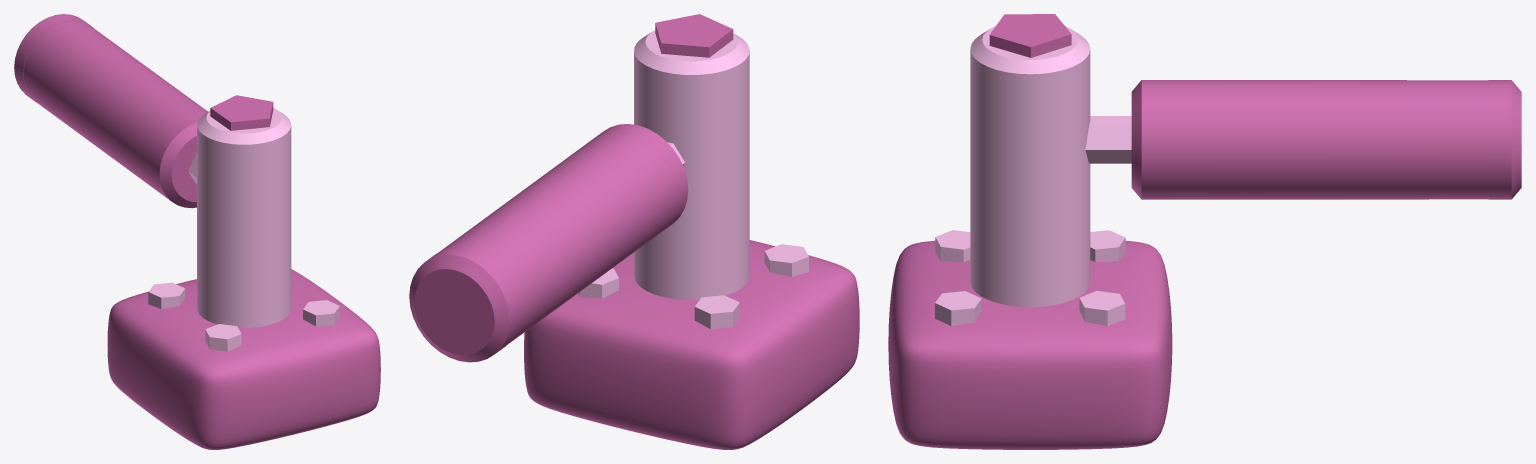
Rendered from SpinBaton.fbx.
3 renders of one model, left to right at view 1: azimuth 30°, elevation 25°; view 2: azimuth 150°, elevation 25°; view 3: azimuth 270°, elevation 25°, orthographic. The views are drawn at different scales.
Parts seen in each view (by area): view 1: Spinner, Poll, Baton, BatonStartCap, TopCap, BatonEndCap, Nut2, Nut1, Nut3; view 2: Spinner, Poll, Baton, BatonEndCap, TopCap, BatonStartCap, Nut3, Nut2, Nut0; view 3: Spinner, Baton, Poll, BatonEndCap, BatonStartCap, TopCap, Arm, Nut0, Nut1, Nut2, Nut3.
Part boxes in pixels (box(x1,y1,x2,y2)): Spinner: box(107, 269, 380, 449); Poll: box(197, 108, 291, 327); Baton: box(23, 21, 207, 193); BatonStartCap: box(150, 113, 204, 208); TopCap: box(210, 95, 273, 130); BatonEndCap: box(14, 14, 93, 101); Nut2: box(205, 324, 241, 351); Nut1: box(303, 300, 339, 326); Nut3: box(148, 282, 185, 308); Spinner: box(524, 240, 859, 449); Poll: box(634, 30, 749, 299); Baton: box(441, 132, 676, 343); BatonEndCap: box(409, 246, 520, 362); TopCap: box(655, 14, 733, 57); BatonStartCap: box(592, 124, 688, 230); Nut3: box(694, 295, 739, 329); Nut2: box(764, 244, 808, 276); Nut0: box(578, 268, 618, 298); Spinner: box(888, 240, 1172, 449); Baton: box(1165, 80, 1488, 199); Poll: box(970, 26, 1090, 307); BatonEndCap: box(1488, 80, 1521, 199); BatonStartCap: box(1131, 80, 1164, 199); TopCap: box(989, 14, 1071, 57); Arm: box(1085, 116, 1131, 163); Nut0: box(1079, 291, 1125, 326); Nut1: box(935, 291, 981, 326); Nut2: box(935, 230, 970, 262); Nut3: box(1090, 230, 1125, 261).
Size of the model in its own units: 118 by 174 by 264.
